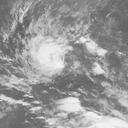cyclone: (28, 35, 66, 72)
